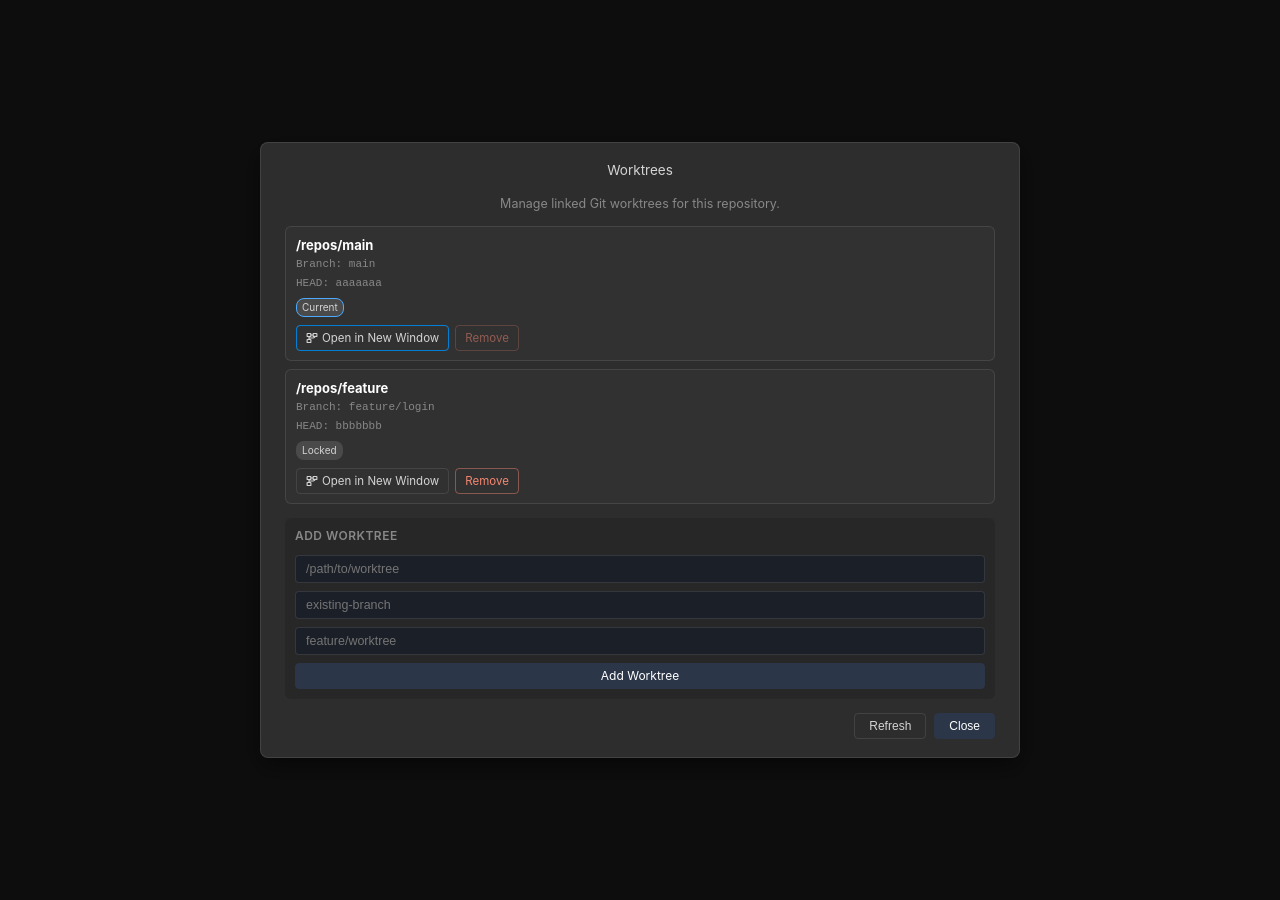
Test case: WorktreeManagerDialog › requires a path before adding a worktree
Click the button with test id "worktree-manager-add-btn" at coordinates (640, 676), box [295,663,985,689]
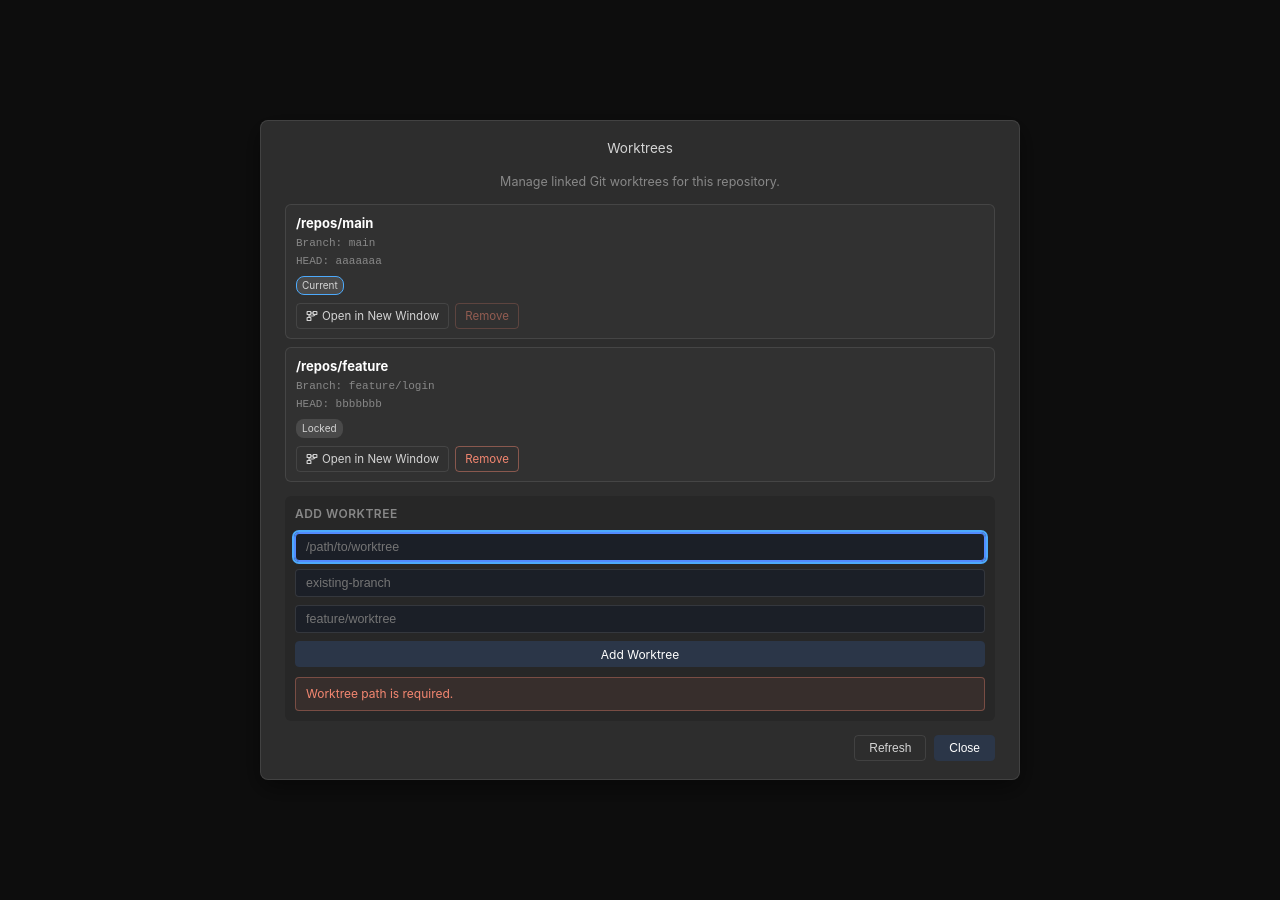
expect the text "Worktree path is required." is shown: met, box [295,677,985,711]
